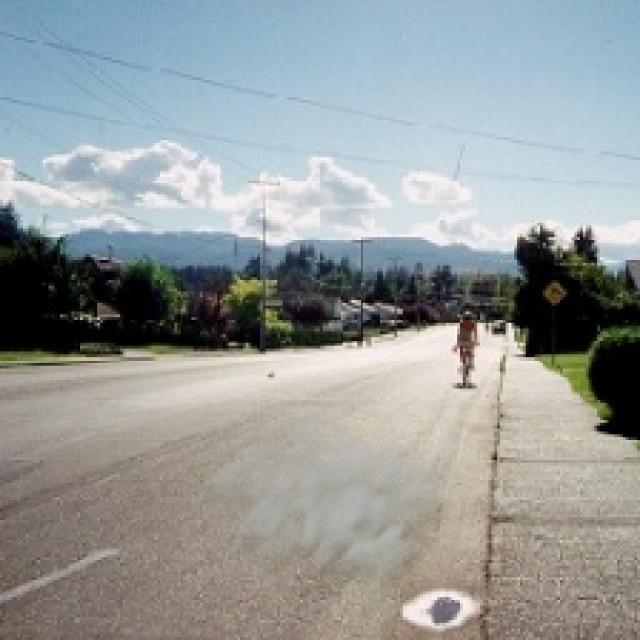Smoke: (195, 408, 460, 612)
